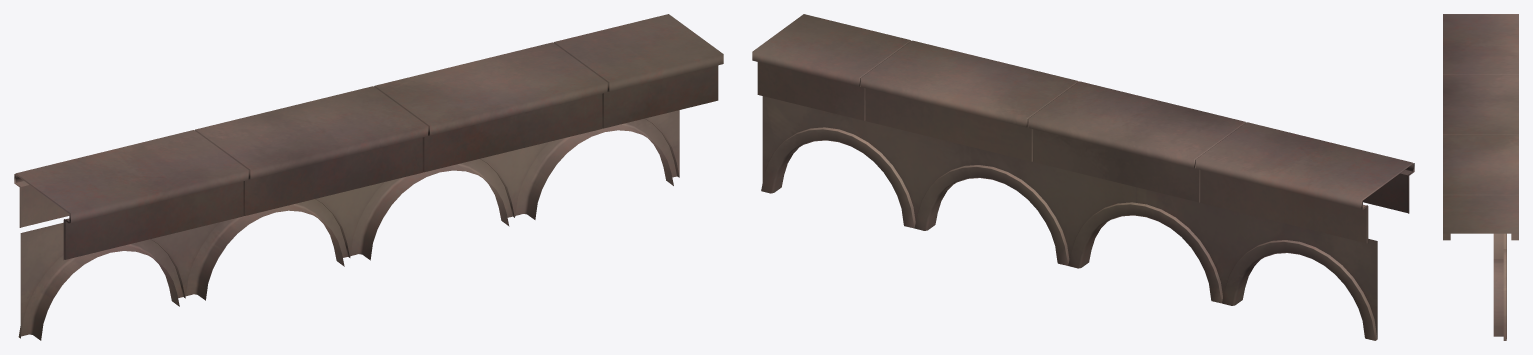
File: SM_Arcos_Main.fbx
3 views of the same model, side by side, from view 1: azimuth 30°, elevation 25°; view 2: azimuth 150°, elevation 25°; view 3: azimuth 270°, elevation 25° (orthographic). The views are drawn at different scales.
Visible parts, largest first — view 1: SM_Arco_Main; view 2: SM_Arco_Main; view 3: SM_Arco_Main.
Boxes of the visible parts, x1,y1,x2,y2 form: SM_Arco_Main: (14, 14, 723, 340); SM_Arco_Main: (752, 14, 1414, 340); SM_Arco_Main: (1443, 14, 1518, 340).
Size of the model in its own units: 181 by 40.82 by 26.12.
Materials: 1 (1 with a texture image).
